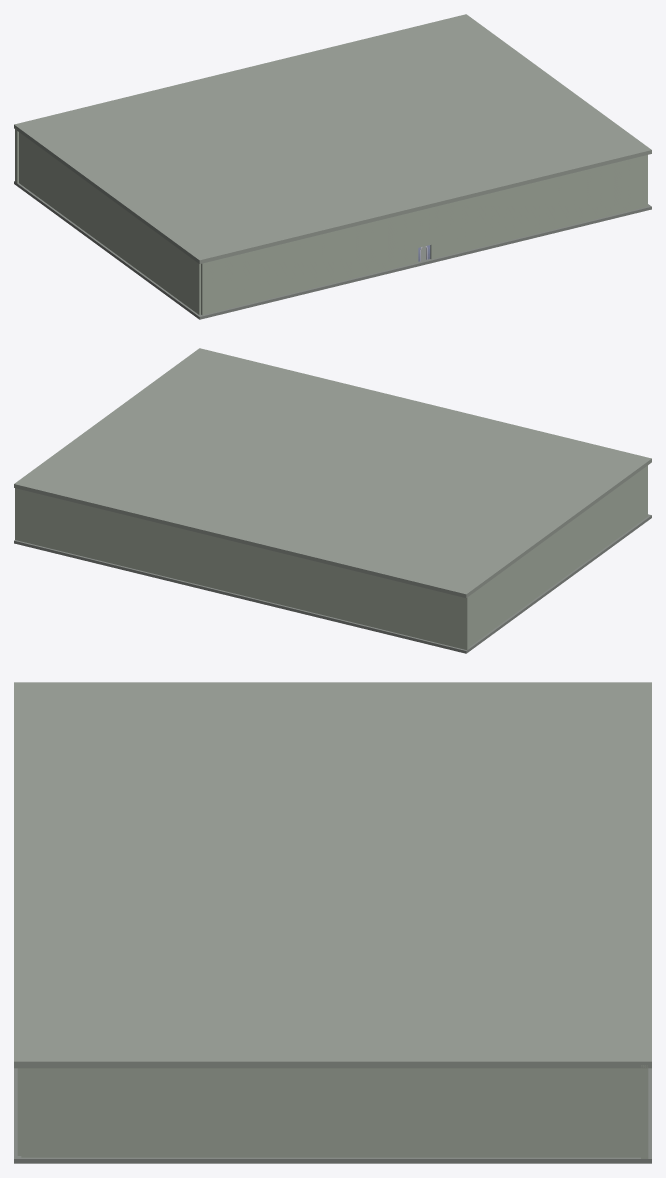
The model's file is world.glb.
The picture shows the model from 3 angles, top to bottom: view 1: azimuth 30°, elevation 25°; view 2: azimuth 150°, elevation 25°; view 3: azimuth 270°, elevation 25°; orthographic projection. The views are drawn at different scales.
Parts seen in each view (by area): view 1: Ceiling, Wall_S_L, Wall_S_R, Wall_W, Terrain, Wall_S_Lintel; view 2: Ceiling, Wall_N, Wall_W, Terrain; view 3: Ceiling, Wall_E, Terrain, Wall_N.
Part boxes in pixels (x1,y1,x2,y2): Ceiling: (14,14,651,263); Wall_S_L: (201,211,418,315); Wall_S_R: (430,155,647,259); Wall_W: (19,132,200,314); Terrain: (14,181,651,319); Wall_S_Lintel: (417,207,431,247); Ceiling: (14,348,651,597); Wall_N: (15,488,469,650); Wall_W: (469,465,647,646); Terrain: (14,514,651,653); Ceiling: (14,682,651,1068); Wall_E: (21,1068,640,1157); Terrain: (14,1068,651,1163); Wall_N: (641,1065,648,1158).
Size of the model in its own units: 86.4 by 10.85 by 61.4.
33 materials, 25 textured.
